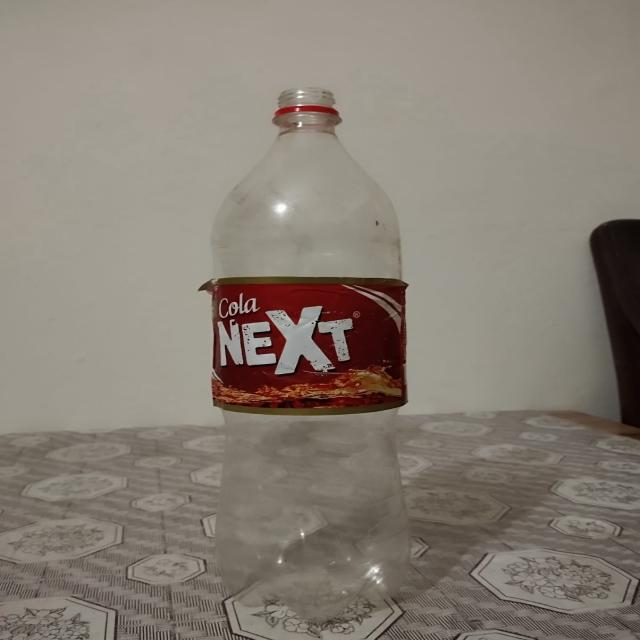bottle: (203, 91, 402, 617)
label: (215, 280, 408, 411)
